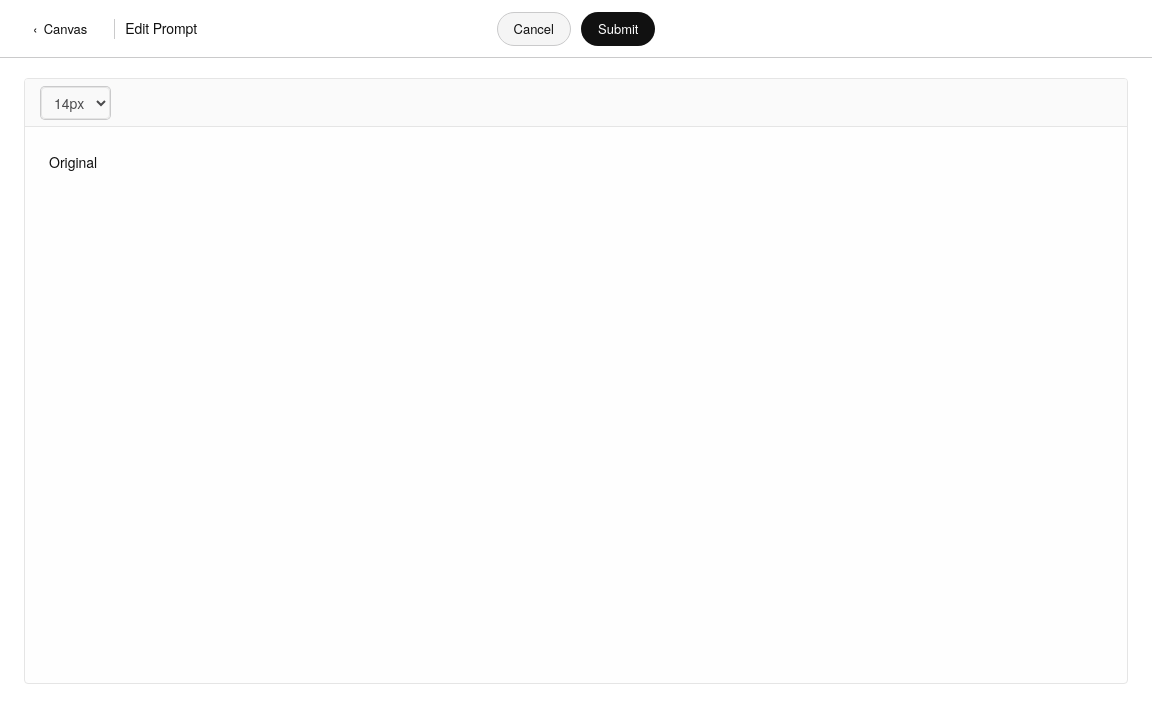
Test: PromptEditorModal › Canvas Return › should show confirmation when returning with unsaved changes
Replace the text in the text box with placeholder "Describe what to generate..." with "Changed": coordinates (576, 405) [25,127,1127,683]
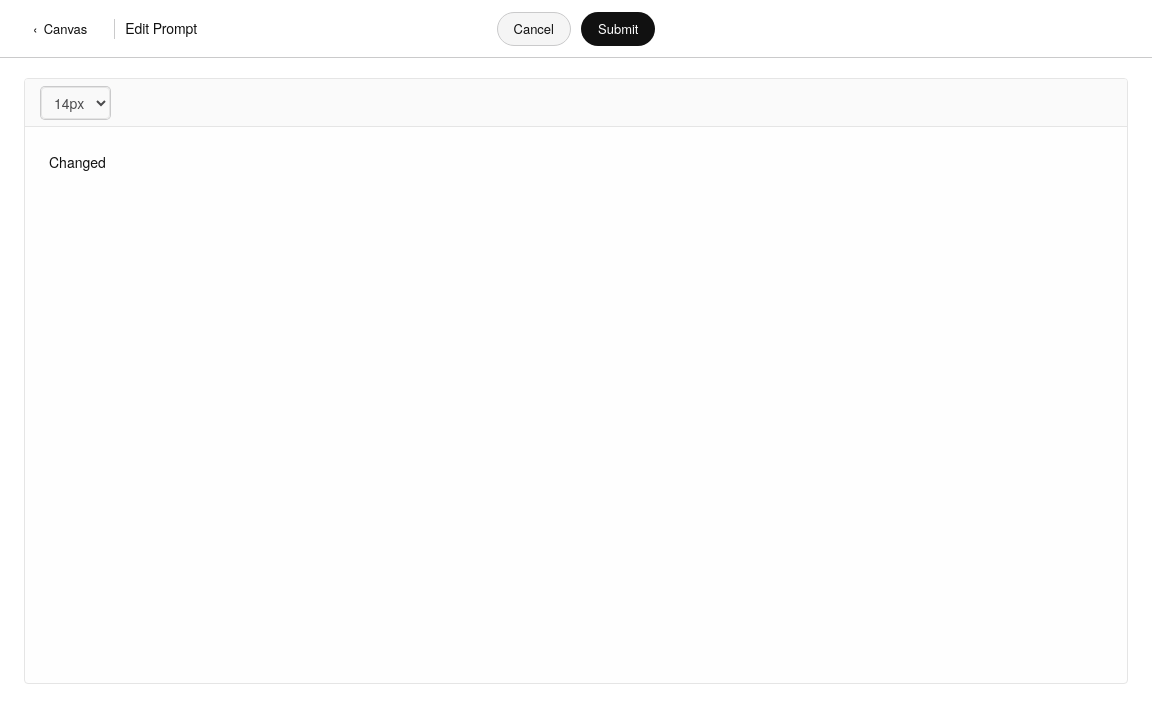
Click the button with aria-label "Back to canvas": coordinates (60, 28) [16,12,104,46]
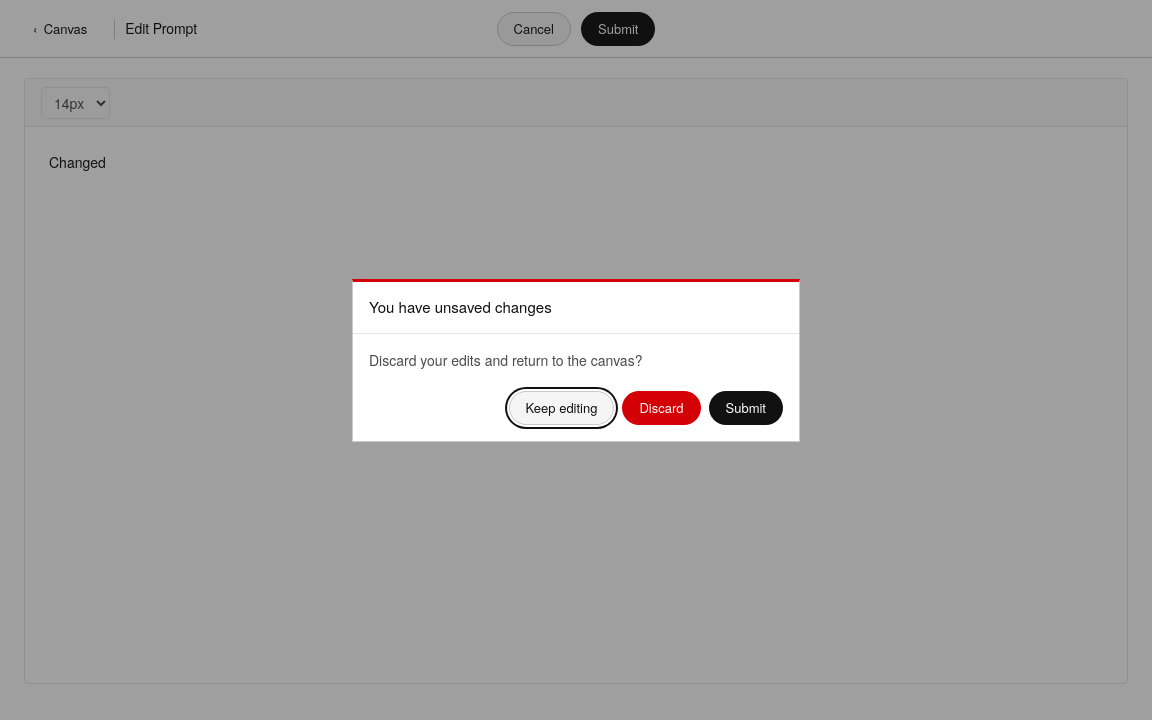
Result: the heading "You have unsaved changes" is shown at [369,296,552,318]
